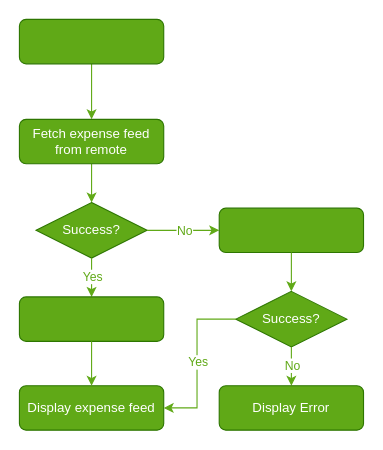
The diagram is 383 pixels wide and 450 high, and some of its shapes have lost their labels. The shapes that lost their labels are listed below. From the top down, each one's box as (x1, y1, x2, y2) in pixels, then its label:
(18, 18, 164, 64): Show expense feed screen
(218, 207, 364, 253): Load expense feed from cache
(18, 296, 164, 341): Cache expense feed
